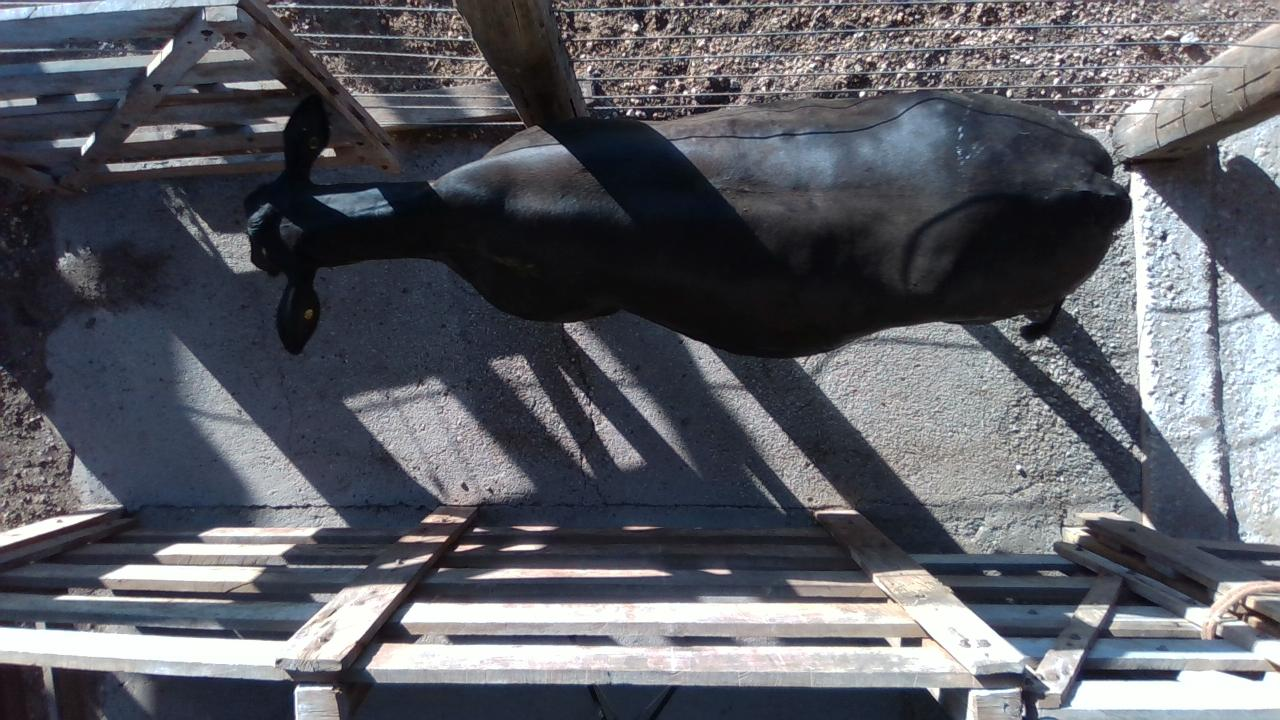cattle: (243, 87, 1132, 359)
